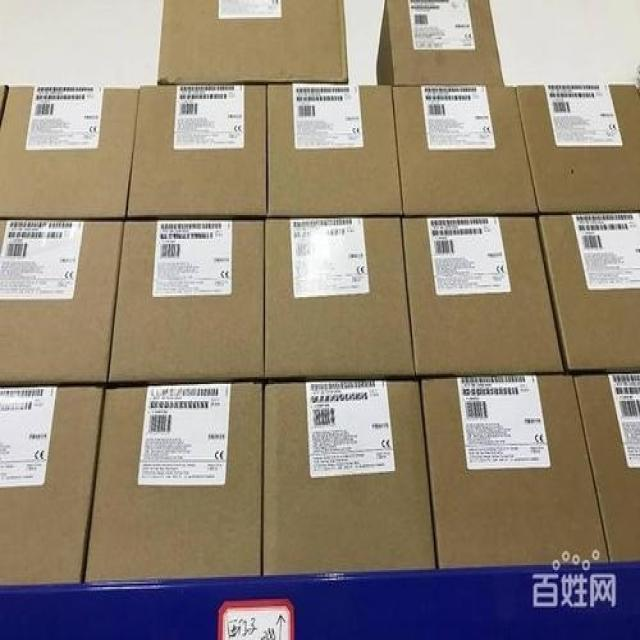box: (422, 374, 609, 570), (83, 382, 262, 582), (264, 381, 436, 575), (402, 217, 564, 377), (110, 220, 265, 386), (265, 217, 416, 379), (0, 386, 104, 585), (0, 220, 124, 384), (127, 85, 268, 220), (393, 87, 539, 217), (0, 85, 140, 218), (268, 85, 403, 217), (539, 213, 640, 375), (159, 0, 348, 84), (516, 85, 640, 213), (575, 374, 640, 563), (376, 0, 504, 87)
